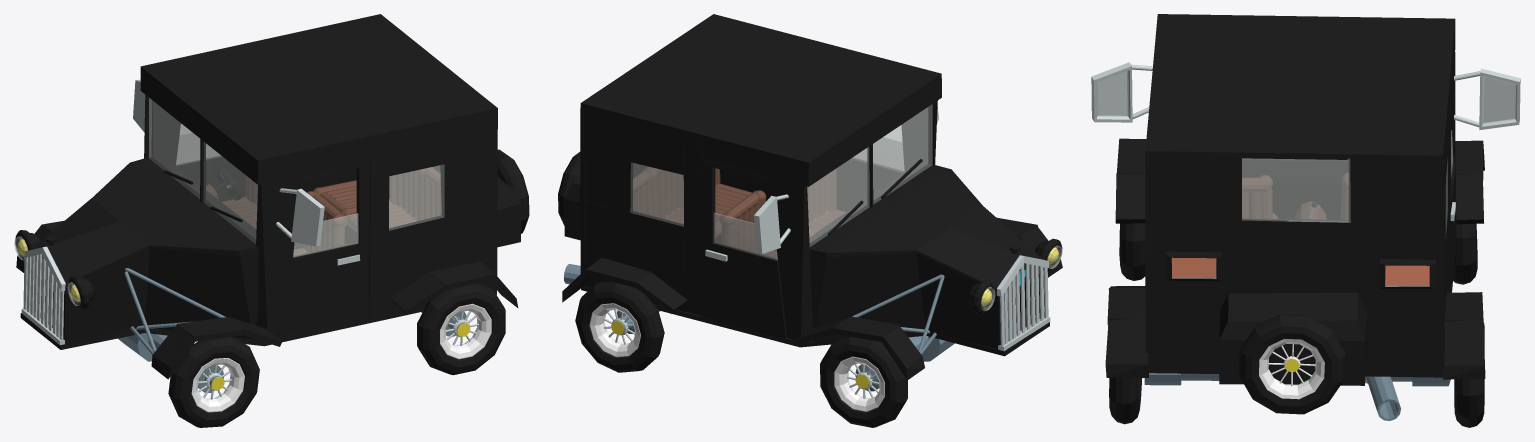
File: Old Car.glb
3 renders of one model, left to right at view 1: azimuth 30°, elevation 25°; view 2: azimuth 150°, elevation 25°; view 3: azimuth 270°, elevation 25°, orthographic. The views are drawn at different scales.
Visible parts, largest first — view 1: group1643766101; view 2: group1643766101; view 3: group1643766101.
Part boxes in pixels (box(x1,y1,x2,y2)): group1643766101: box(14, 14, 529, 427); group1643766101: box(558, 14, 1062, 427); group1643766101: box(1091, 14, 1520, 427).
Bounding box in the file's own units: 4.6 × 2.37 × 3.1.
